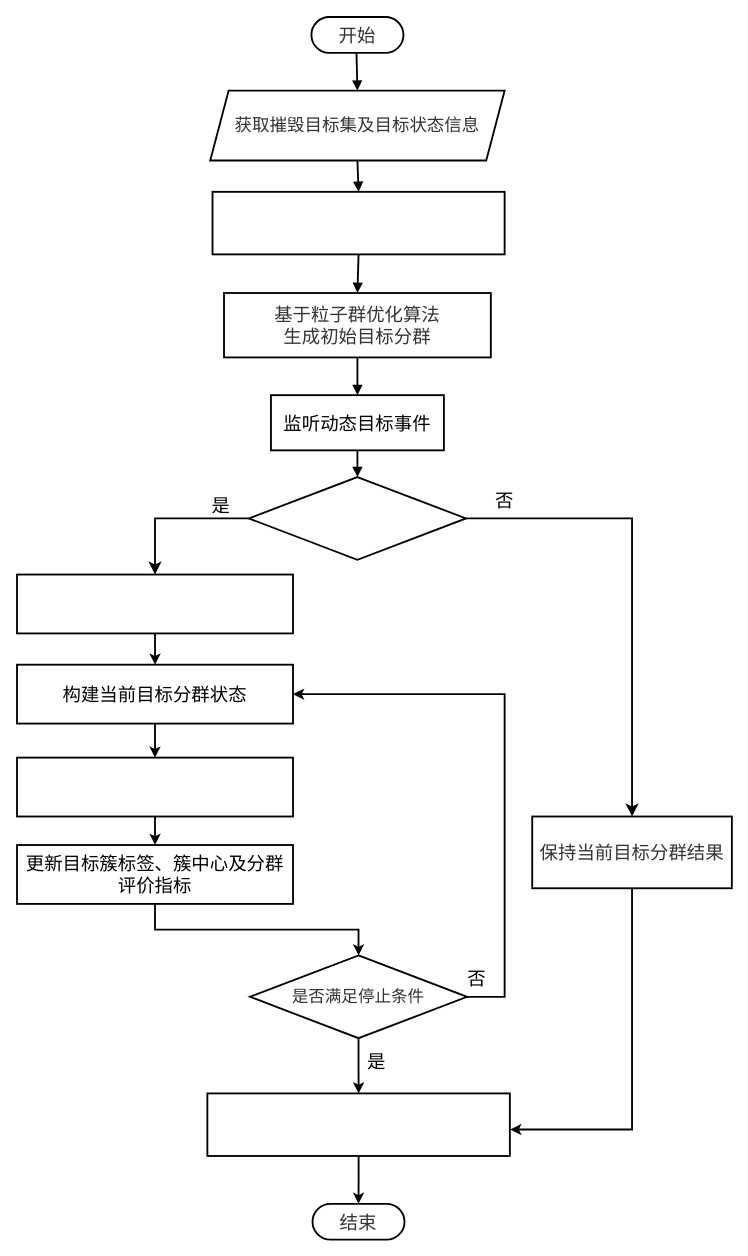
This 748x1256 diagram has some shape labels left out. The box of each missing label's shape, as (x1, y1, x2, y2) in pixels:
是否发生 动态目标事件: (247, 476, 466, 560)
更新动态事件后的目标集合: (16, 573, 293, 634)
构建目标特征并进行归一化处理: (211, 190, 505, 255)
输入训练后PPO智能体 并输出目标移动动作: (16, 756, 293, 817)
输出动态重分群后的目标簇集合: (206, 1092, 510, 1156)
